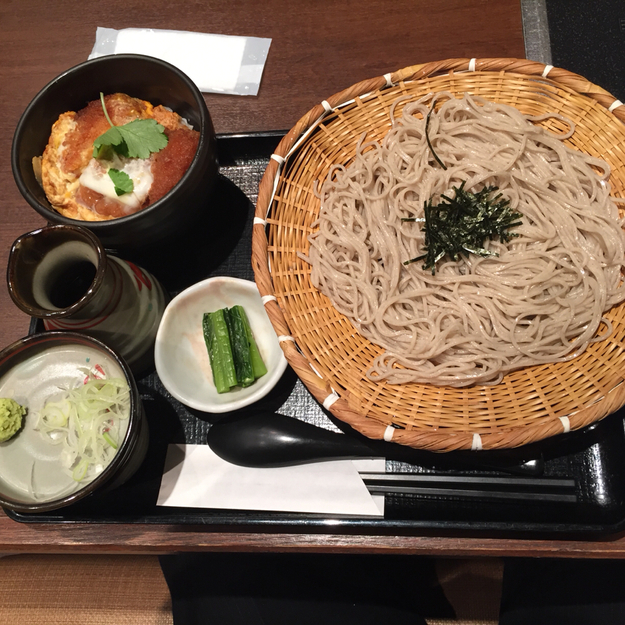Soba: (320, 95, 625, 391)
